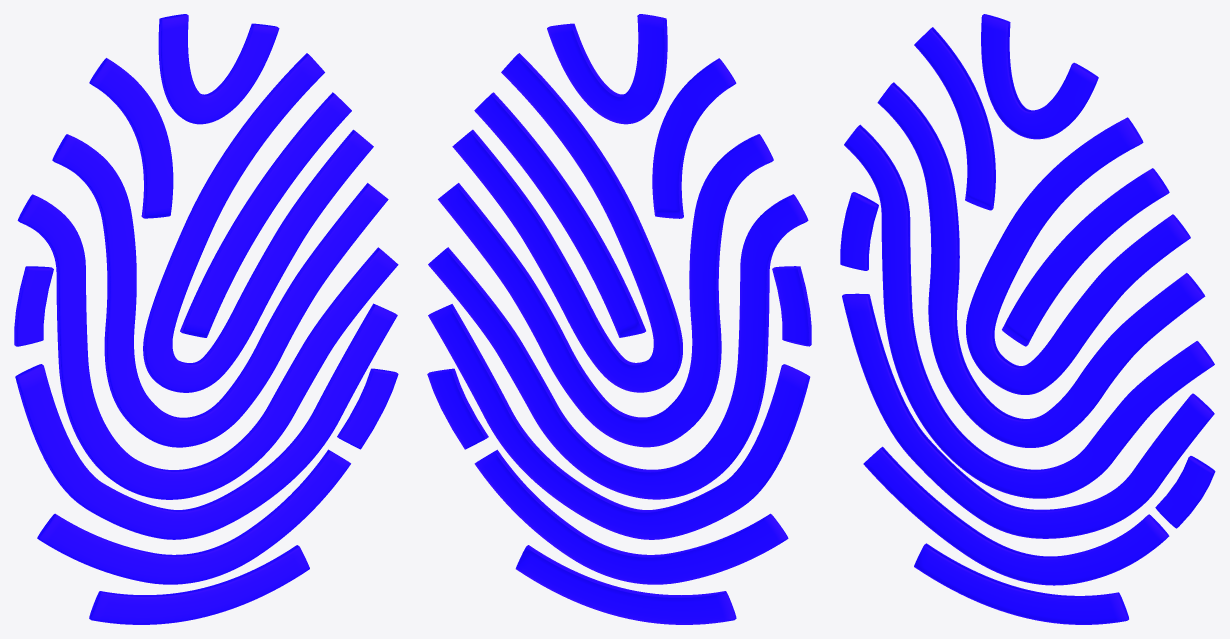
File: blueFingerPrint.glb
3 renders of one model, left to right at view 1: azimuth 30°, elevation 25°; view 2: azimuth 150°, elevation 25°; view 3: azimuth 330°, elevation 25°, orthographic. The views are drawn at different scales.
Visible parts, largest first — view 1: NurbsPath.003; view 2: NurbsPath.003; view 3: NurbsPath.003.
Part boxes in pixels (x1,y1,x2,y2): NurbsPath.003: [14, 14, 398, 624]; NurbsPath.003: [427, 14, 811, 624]; NurbsPath.003: [840, 14, 1215, 624].
Size of the model in its own units: 1.51 by 2.3 by 0.0281.
